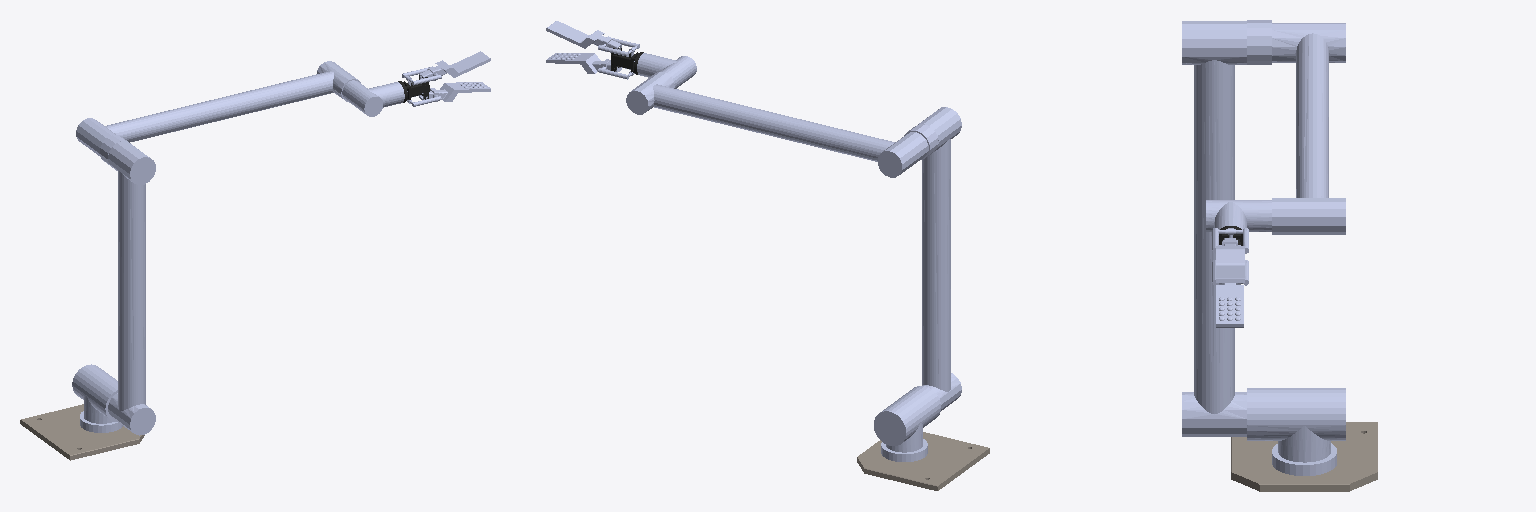
The robot description file, URDF, robot "Arm_urdf":
<?xml version="1.0" encoding="utf-8"?>
<!-- This URDF was automatically created by SolidWorks to URDF Exporter! Originally created by [author] ([email redacted]) 
     Commit Version: 1.6.0-4-g7f85cfe  Build Version: 1.6.7995.38578
     For more information, please see http://wiki.ros.org/sw_urdf_exporter -->
<robot
  name="Arm_urdf">
  <link
    name="base_link">
    <inertial>
      <origin
        xyz="-0.0292064837891555 9.82808413992065E-09 0.00773094388760092"
        rpy="0 0 0" />
      <mass
        value="2.5433833664806" />
      <inertia
        ixx="0.00628163463085114"
        ixy="6.92660079350532E-19"
        ixz="1.98730412004206E-05"
        iyy="0.00637258484633234"
        iyz="-1.49612150409046E-19"
        izz="0.0126050197334029" />
    </inertial>
    <visual>
      <origin
        xyz="0 0 0"
        rpy="0 0 0" />
      <geometry>
        <mesh
          filename="package://Arm_urdf/meshes/base_link.STL" />
      </geometry>
      <material
        name="">
        <color
          rgba="0.650980392156863 0.619607843137255 0.588235294117647 1" />
      </material>
    </visual>
    <collision>
      <origin
        xyz="0 0 0"
        rpy="0 0 0" />
      <geometry>
        <mesh
          filename="package://Arm_urdf/meshes/base_link.STL" />
      </geometry>
    </collision>
  </link>
  <link
    name="shoulder_base">
    <inertial>
      <origin
        xyz="9.29185170941288E-08 -0.00726682022786187 0.0369172409350033"
        rpy="0 0 0" />
      <mass
        value="0.547968899396397" />
      <inertia
        ixx="0.000911442104513962"
        ixy="-3.38184624925756E-11"
        ixz="9.43198637686502E-13"
        iyy="0.000534320721116197"
        iyz="5.20948534717379E-05"
        izz="0.000696689325254328" />
    </inertial>
    <visual>
      <origin
        xyz="0 0 0"
        rpy="0 0 0" />
      <geometry>
        <mesh
          filename="package://Arm_urdf/meshes/shoulder_base.STL" />
      </geometry>
      <material
        name="">
        <color
          rgba="0.792156862745098 0.819607843137255 0.933333333333333 1" />
      </material>
    </visual>
    <collision>
      <origin
        xyz="0 0 0"
        rpy="0 0 0" />
      <geometry>
        <mesh
          filename="package://Arm_urdf/meshes/shoulder_base.STL" />
      </geometry>
    </collision>
  </link>
  <joint
    name="shoulder_base_joint"
    type="continuous">
    <origin
      xyz="0 0 0.028"
      rpy="0 0 0" />
    <parent
      link="base_link" />
    <child
      link="shoulder_base" />
    <axis
      xyz="0 0 1" />
    <limit
      lower="0"
      upper="6.283"
      effort="200"
      velocity="3" />
  </joint>
  <link
    name="upper_arm_cylinder">
    <inertial>
      <origin
        xyz="-1.33819259338572E-07 0.0399999898537353 0.250000006515245"
        rpy="0 0 0" />
      <mass
        value="1.26674905761263" />
      <inertia
        ixx="0.0392454061401058"
        ixy="-1.72857379849092E-09"
        ixz="-1.1583048971401E-08"
        iyy="0.0391174058860417"
        iyz="-1.59021896999605E-09"
        izz="0.000553103031324755" />
    </inertial>
    <visual>
      <origin
        xyz="0 0 0"
        rpy="0 0 0" />
      <geometry>
        <mesh
          filename="package://Arm_urdf/meshes/upper_arm_cylinder.STL" />
      </geometry>
      <material
        name="">
        <color
          rgba="0.792156862745098 0.819607843137255 0.933333333333333 1" />
      </material>
    </visual>
    <collision>
      <origin
        xyz="0 0 0"
        rpy="0 0 0" />
      <geometry>
        <mesh
          filename="package://Arm_urdf/meshes/upper_arm_cylinder.STL" />
      </geometry>
    </collision>
  </link>
  <joint
    name="upper_arm_cylinder_joint"
    type="revolute">
    <origin
      xyz="0 -0.149999990171918 0.0499999999999974"
      rpy="0 0 0" />
    <parent
      link="shoulder_base" />
    <child
      link="upper_arm_cylinder" />
    <axis
      xyz="0 -1 0" />
    <limit
      lower="-1.5708"
      upper="1.5708"
      effort="200"
      velocity="3" />
  </joint>
  <link
    name="lower_arm_cylinder">
    <inertial>
      <origin
        xyz="0.223699510363451 -0.0464535386689112 7.73162921463566E-08"
        rpy="0 0 0" />
      <mass
        value="0.965720738719143" />
      <inertia
        ixx="0.000664698936180895"
        ixy="-0.00103626732122404"
        ixz="-4.33113740250719E-08"
        iyy="0.0339695103321179"
        iyz="-1.37903167492945E-09"
        izz="0.0343996252283291" />
    </inertial>
    <visual>
      <origin
        xyz="0 0 0"
        rpy="0 0 0" />
      <geometry>
        <mesh
          filename="package://Arm_urdf/meshes/lower_arm_cylinder.STL" />
      </geometry>
      <material
        name="">
        <color
          rgba="0.792156862745098 0.819607843137255 0.933333333333333 1" />
      </material>
    </visual>
    <collision>
      <origin
        xyz="0 0 0"
        rpy="0 0 0" />
      <geometry>
        <mesh
          filename="package://Arm_urdf/meshes/lower_arm_cylinder.STL" />
      </geometry>
    </collision>
  </link>
  <joint
    name="lower_arm_cylinder_joint"
    type="revolute">
    <origin
      xyz="0 0.2 0.5"
      rpy="0 0 0" />
    <parent
      link="upper_arm_cylinder" />
    <child
      link="lower_arm_cylinder" />
    <axis
      xyz="0 1 0" />
    <limit
      lower="-3.92699"
      upper="0.7854"
      effort="200"
      velocity="3" />
  </joint>
  <link
    name="wrist_cylinder">
    <inertial>
      <origin
        xyz="0.0172901666734815 0.0360140167199761 8.52731856237909E-08"
        rpy="0 0 0" />
      <mass
        value="0.16716236671567" />
      <inertia
        ixx="8.12875362367741E-05"
        ixy="1.73820838865348E-05"
        ixz="-4.58227920659574E-11"
        iyy="0.000118622681045282"
        iyz="1.82563615978395E-11"
        izz="0.000165624520780463" />
    </inertial>
    <visual>
      <origin
        xyz="0 0 0"
        rpy="0 0 0" />
      <geometry>
        <mesh
          filename="package://Arm_urdf/meshes/wrist_cylinder.STL" />
      </geometry>
      <material
        name="">
        <color
          rgba="0.792156862745098 0.819607843137255 0.933333333333333 1" />
      </material>
    </visual>
    <collision>
      <origin
        xyz="0 0 0"
        rpy="0 0 0" />
      <geometry>
        <mesh
          filename="package://Arm_urdf/meshes/wrist_cylinder.STL" />
      </geometry>
    </collision>
  </link>
  <joint
    name="wrist_cylinder_joint"
    type="continuous">
    <origin
      xyz="0.5 -0.169999999999999 0"
      rpy="0 0 0" />
    <parent
      link="lower_arm_cylinder" />
    <child
      link="wrist_cylinder" />
    <axis
      xyz="0 1 0" />
    <limit
      lower="0"
      upper="0"
      effort="200"
      velocity="3" />
  </joint>
  <link
    name="arm_rotate">
    <inertial>
      <origin
        xyz="0.0106304475519746 0.000353133249130347 4.01452071119301E-05"
        rpy="0 0 0" />
      <mass
        value="0.0124047403077522" />
      <inertia
        ixx="2.28631743840939E-06"
        ixy="-2.20228888606826E-08"
        ixz="-6.67450313669069E-10"
        iyy="1.74603895262428E-06"
        iyz="-1.26485224644082E-10"
        izz="1.71851914957186E-06" />
    </inertial>
    <visual>
      <origin
        xyz="0 0 0"
        rpy="0 0 0" />
      <geometry>
        <mesh
          filename="package://Arm_urdf/meshes/arm_rotate.STL" />
      </geometry>
      <material
        name="">
        <color
          rgba="0.2 0.2 0.2 1" />
      </material>
    </visual>
    <collision>
      <origin
        xyz="0 0 0"
        rpy="0 0 0" />
      <geometry>
        <mesh
          filename="package://Arm_urdf/meshes/arm_rotate.STL" />
      </geometry>
    </collision>
  </link>
  <joint
    name="arm_rotate_joint"
    type="continuous">
    <origin
      xyz="0.077 0.03 0"
      rpy="0 0 0" />
    <parent
      link="wrist_cylinder" />
    <child
      link="arm_rotate" />
    <axis
      xyz="1 0 0" />
    <limit
      lower="0"
      upper="6.2832"
      effort="200"
      velocity="3" />
  </joint>
  <link
    name="finger_1">
    <inertial>
      <origin
        xyz="0.0660992209346021 -0.00496780547223352 -0.00829355321651146"
        rpy="0 0 0" />
      <mass
        value="0.0328182602345924" />
      <inertia
        ixx="3.76817248848763E-06"
        ixy="1.72780673518588E-06"
        ixz="-6.91279336191209E-08"
        iyy="4.06972127484588E-05"
        iyz="3.00522180646228E-09"
        izz="3.8681659734023E-05" />
    </inertial>
    <visual>
      <origin
        xyz="0 0 0"
        rpy="0 0 0" />
      <geometry>
        <mesh
          filename="package://Arm_urdf/meshes/finger_1.STL" />
      </geometry>
      <material
        name="">
        <color
          rgba="0.792156862745098 0.819607843137255 0.933333333333333 1" />
      </material>
    </visual>
    <collision>
      <origin
        xyz="0 0 0"
        rpy="0 0 0" />
      <geometry>
        <mesh
          filename="package://Arm_urdf/meshes/finger_1.STL" />
      </geometry>
    </collision>
  </link>
  <joint
    name="fingure_1_joint"
    type="continuous">
    <origin
      xyz="0.045 -0.009375 -0.018"
      rpy="1.5708 0 0" />
    <parent
      link="arm_rotate" />
    <child
      link="finger_1" />
    <axis
      xyz="0 0 -1" />
    <limit
      lower="0"
      upper="6.2832"
      effort="200"
      velocity="3" />
    <mimic
      joint="supporter_joint"
      multiplier="-1"
      offset="0" />
  </joint>
  <link
    name="red_block_1">
    <inertial>
      <origin
        xyz="-9.8280689142527E-09 4.2277292777726E-13 -3.32067706665384E-13"
        rpy="0 0 0" />
      <mass
        value="0.00174697026717748" />
      <inertia
        ixx="1.03012520473361E-07"
        ixy="3.39121864988653E-23"
        ixz="-2.7061693360686E-22"
        iyy="1.1253952843479E-07"
        iyz="-1.31900655164854E-08"
        izz="1.81712992327638E-07" />
    </inertial>
    <visual>
      <origin
        xyz="0 0 0"
        rpy="0 0 0" />
      <geometry>
        <mesh
          filename="package://Arm_urdf/meshes/red_block_1.STL" />
      </geometry>
      <material
        name="">
        <color
          rgba="0.792156862745098 0.819607843137255 0.933333333333333 1" />
      </material>
    </visual>
    <collision>
      <origin
        xyz="0 0 0"
        rpy="0 0 0" />
      <geometry>
        <mesh
          filename="package://Arm_urdf/meshes/red_block_1.STL" />
      </geometry>
    </collision>
  </link>
  <joint
    name="red_block_1_joint"
    type="prismatic">
    <origin
      xyz="0.019 -0.0035 -0.0085"
      rpy="0 1.5708 0" />
    <parent
      link="finger_1" />
    <child
      link="red_block_1" />
    <axis
      xyz="0 -0.18116 0.98345" />
    <limit
      lower="0"
      upper="0.09"
      effort="200"
      velocity="3" />
    <mimic
      joint="supporter_joint"
      multiplier="1"
      offset="0" />
  </joint>
  <link
    name="fingure_2">
    <inertial>
      <origin
        xyz="0.0660992209345755 0.0049678054721487 -0.00928524332673757"
        rpy="0 0 0" />
      <mass
        value="0.0328182602345925" />
      <inertia
        ixx="3.76817248849424E-06"
        ixy="-1.72780673525657E-06"
        ixz="6.9127933619225E-08"
        iyy="4.06972127484523E-05"
        iyz="3.00522180660152E-09"
        izz="3.86816597340231E-05" />
    </inertial>
    <visual>
      <origin
        xyz="0 0 0"
        rpy="0 0 0" />
      <geometry>
        <mesh
          filename="package://Arm_urdf/meshes/fingure_2.STL" />
      </geometry>
      <material
        name="">
        <color
          rgba="0.792156862745098 0.819607843137255 0.933333333333333 1" />
      </material>
    </visual>
    <collision>
      <origin
        xyz="0 0 0"
        rpy="0 0 0" />
      <geometry>
        <mesh
          filename="package://Arm_urdf/meshes/fingure_2.STL" />
      </geometry>
    </collision>
  </link>
  <joint
    name="fingure_2_joint"
    type="continuous">
    <origin
      xyz="0.045 -0.0099538 0.018"
      rpy="1.5708 0 0" />
    <parent
      link="arm_rotate" />
    <child
      link="fingure_2" />
    <axis
      xyz="0 0 -1" />
    <limit
      lower="0"
      upper="6.2832"
      effort="200"
      velocity="3" />
    <mimic
      joint="supporter_joint"
      multiplier="1"
      offset="0" />
  </joint>
  <link
    name="red_block_2">
    <inertial>
      <origin
        xyz="7.79931674799172E-15 -6.81676937119846E-13 4.11226608321158E-13"
        rpy="0 0 0" />
      <mass
        value="0.00174697026717749" />
      <inertia
        ixx="1.03012520473362E-07"
        ixy="1.93824085241509E-22"
        ixz="-6.75172875211816E-23"
        iyy="1.12539528434841E-07"
        iyz="1.3190065516618E-08"
        izz="1.81712992327589E-07" />
    </inertial>
    <visual>
      <origin
        xyz="0 0 0"
        rpy="0 0 0" />
      <geometry>
        <mesh
          filename="package://Arm_urdf/meshes/red_block_2.STL" />
      </geometry>
      <material
        name="">
        <color
          rgba="0.792156862745098 0.819607843137255 0.933333333333333 1" />
      </material>
    </visual>
    <collision>
      <origin
        xyz="0 0 0"
        rpy="0 0 0" />
      <geometry>
        <mesh
          filename="package://Arm_urdf/meshes/red_block_2.STL" />
      </geometry>
    </collision>
  </link>
  <joint
    name="red_block_2_joint"
    type="prismatic">
    <origin
      xyz="0.019 0.0035 -0.0090788"
      rpy="0 1.5708 0" />
    <parent
      link="fingure_2" />
    <child
      link="red_block_2" />
    <axis
      xyz="0 0.18116 0.98345" />
    <limit
      lower="0"
      upper="0.09"
      effort="200"
      velocity="3" />
    <mimic
      joint="supporter_joint"
      multiplier="1"
      offset="0" />
  </joint>
  <link
    name="supporter">
    <inertial>
      <origin
        xyz="0.035922105798786 -6.83074288798657E-09 -6.42013830987054E-09"
        rpy="0 0 0" />
      <mass
        value="0.0161452418064815" />
      <inertia
        ixx="6.53199856990455E-07"
        ixy="-7.03720669206306E-14"
        ixz="-2.1784532112472E-12"
        iyy="5.4987225850035E-06"
        iyz="-3.75532997373652E-12"
        izz="5.29945377002244E-06" />
    </inertial>
    <visual>
      <origin
        xyz="0 0 0"
        rpy="0 0 0" />
      <geometry>
        <mesh
          filename="package://Arm_urdf/meshes/supporter.STL" />
      </geometry>
      <material
        name="">
        <color
          rgba="0.792156862745098 0.819607843137255 0.933333333333333 1" />
      </material>
    </visual>
    <collision>
      <origin
        xyz="0 0 0"
        rpy="0 0 0" />
      <geometry>
        <mesh
          filename="package://Arm_urdf/meshes/supporter.STL" />
      </geometry>
    </collision>
  </link>
  <joint
    name="supporter_joint"
    type="prismatic">
    <origin
      xyz="0 0 0"
      rpy="0 0 0" />
    <parent
      link="arm_rotate" />
    <child
      link="supporter" />
    <axis
      xyz="1 0 0" />
    <limit
      lower="0"
      upper="0.009"
      effort="200"
      velocity="3" />
  </joint>
</robot>

--- Facts derived from the render (not from the file) ---
Views: 3 orthographic renders of the robot side by side, from view 1: azimuth 30°, elevation 25°; view 2: azimuth 150°, elevation 25°; view 3: azimuth 270°, elevation 25°.
Model Arm_urdf with 11 links and 10 joints (2 revolute, 5 continuous, 3 prismatic), rooted at base_link, posed all joints at 0.
Links seen in each view (by area): view 1: upper_arm_cylinder, lower_arm_cylinder, base_link, shoulder_base, wrist_cylinder, fingure_2, finger_1; view 2: lower_arm_cylinder, upper_arm_cylinder, base_link, shoulder_base, wrist_cylinder, fingure_2, finger_1; view 3: upper_arm_cylinder, lower_arm_cylinder, shoulder_base, base_link, wrist_cylinder, finger_1, fingure_2, supporter.
Boxes of the visible links, x1=… form: upper_arm_cylinder: x1=108, y1=141, x2=155, y2=435; lower_arm_cylinder: x1=76, y1=61, x2=360, y2=165; base_link: x1=20, y1=404, x2=144, y2=460; shoulder_base: x1=72, y1=364, x2=122, y2=432; wrist_cylinder: x1=342, y1=80, x2=404, y2=116; fingure_2: x1=419, y1=51, x2=490, y2=78; finger_1: x1=419, y1=82, x2=490, y2=101; lower_arm_cylinder: x1=626, y1=71, x2=938, y2=177; upper_arm_cylinder: x1=918, y1=107, x2=961, y2=410; base_link: x1=857, y1=432, x2=989, y2=490; shoulder_base: x1=874, y1=386, x2=940, y2=461; wrist_cylinder: x1=637, y1=53, x2=696, y2=88; fingure_2: x1=546, y1=21, x2=621, y2=49; finger_1: x1=546, y1=53, x2=621, y2=73; upper_arm_cylinder: x1=1182, y1=21, x2=1246, y2=436; lower_arm_cylinder: x1=1247, y1=20, x2=1345, y2=234; shoulder_base: x1=1247, y1=388, x2=1345, y2=475; base_link: x1=1231, y1=422, x2=1377, y2=491; wrist_cylinder: x1=1206, y1=200, x2=1271, y2=231; finger_1: x1=1216, y1=283, x2=1243, y2=327; fingure_2: x1=1216, y1=238, x2=1244, y2=282; supporter: x1=1212, y1=228, x2=1248, y2=285.
Bounding box of the posed robot: 0.8698 × 0.24 × 0.6123 m (x, y, z).
Meshes: 11 distinct files referenced, 11 mesh visuals loaded (11 binary STL).